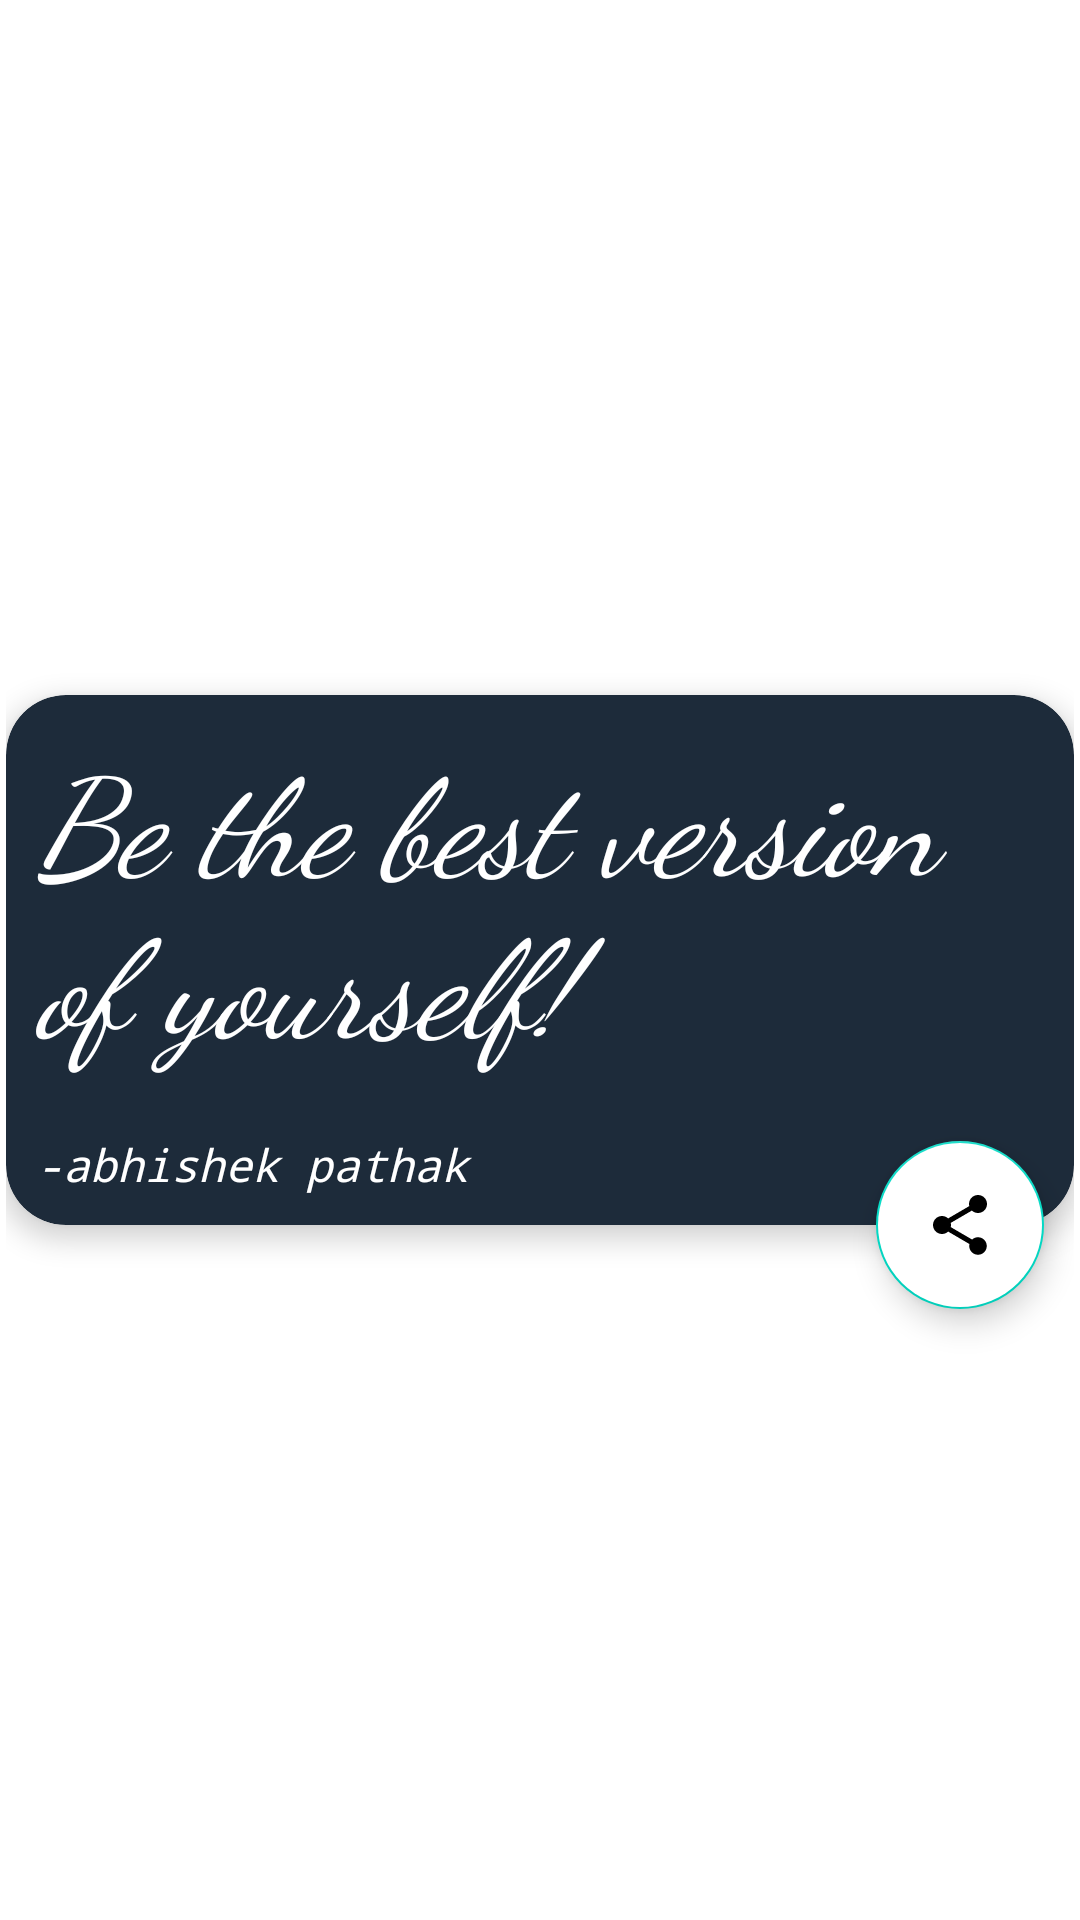

Screen size 1080px×1920px. Icon name, then its center in pixels as [x,y]:
share: [960,1225]
